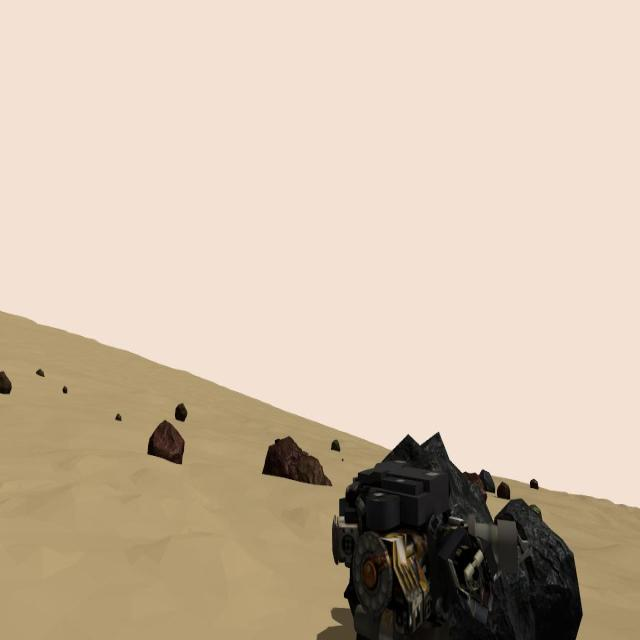rock: (493, 499, 582, 640), (382, 430, 494, 523), (261, 436, 333, 486), (147, 420, 185, 464), (462, 470, 488, 504), (480, 468, 495, 494), (0, 371, 12, 394), (175, 402, 188, 421), (498, 479, 510, 499), (530, 504, 541, 520), (331, 438, 339, 450), (530, 478, 538, 488), (36, 368, 43, 376), (62, 385, 67, 395), (115, 414, 121, 419)
